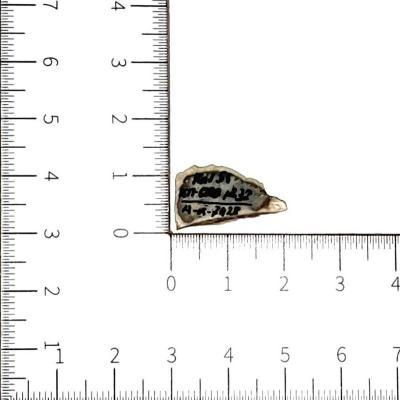archeology: (175, 165, 288, 227)
